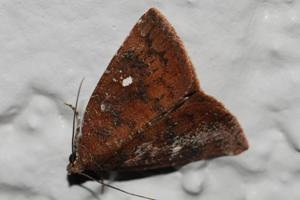Noctuidae: (66, 5, 251, 198)
